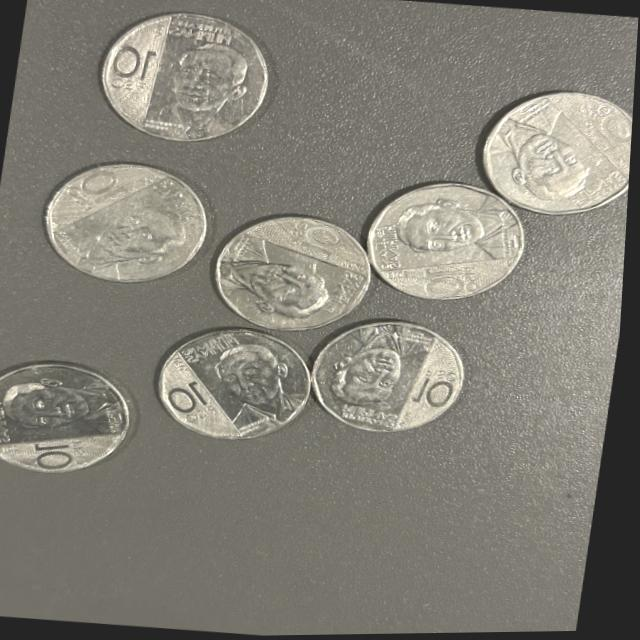10_New_Front: (378, 171, 565, 304), (213, 205, 382, 346), (483, 96, 635, 246), (100, 15, 267, 144), (321, 319, 487, 442), (45, 166, 201, 286), (0, 360, 148, 478), (170, 337, 306, 443)
